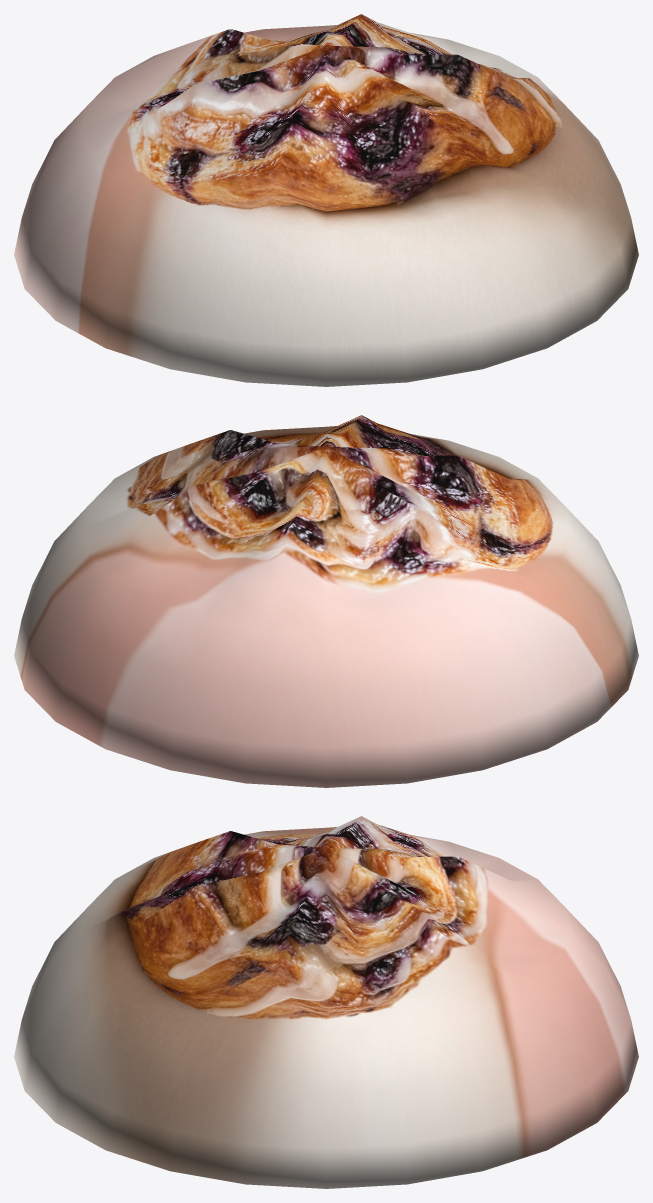
Rendered from prop_roll.glb.
3 views of the same model, one above another, from view 1: azimuth 30°, elevation 25°; view 2: azimuth 150°, elevation 25°; view 3: azimuth 270°, elevation 25° (orthographic).
Visible parts, largest first — view 1: prop_roll; view 2: prop_roll; view 3: prop_roll.
Part boxes in pixels (x1,y1,x2,y2): prop_roll: (14,14,638,386); prop_roll: (14,415,638,787); prop_roll: (14,816,638,1188).
Bounding box in the file's own units: 0.096 × 0.0354 × 0.096.
1 material, 1 textured.
